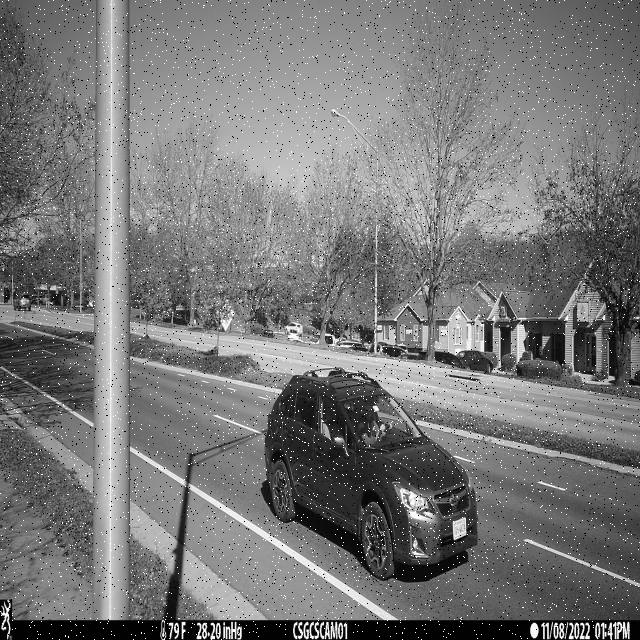SUV: (264, 366, 480, 582)
